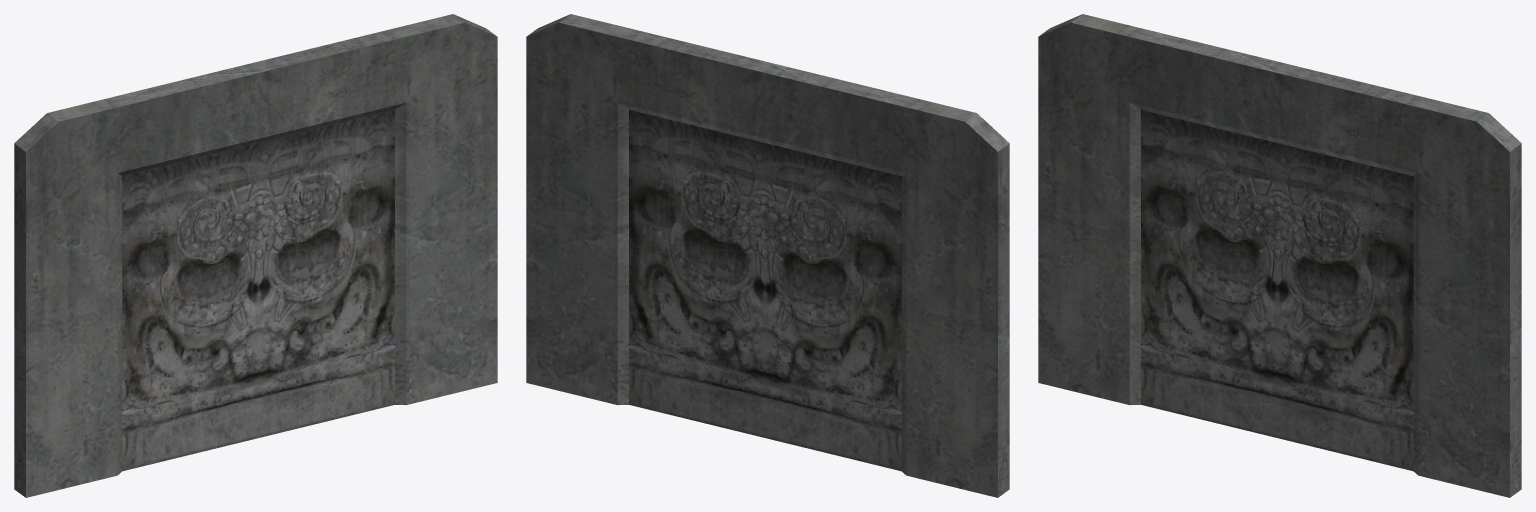
The model's file is door_djt_arena_down_l0.fbx.
The picture shows the model from 3 angles, left to right: view 1: azimuth 30°, elevation 25°; view 2: azimuth 150°, elevation 25°; view 3: azimuth 330°, elevation 25°; orthographic projection.
Parts seen in each view (by area): view 1: mesh_node; view 2: mesh_node; view 3: mesh_node.
Boxes of the visible parts, bbox=[...] form: mesh_node: bbox=[14, 14, 497, 497]; mesh_node: bbox=[526, 14, 1009, 497]; mesh_node: bbox=[1038, 14, 1521, 497].
Size of the model in its own units: 4 by 2.98 by 0.1737.
